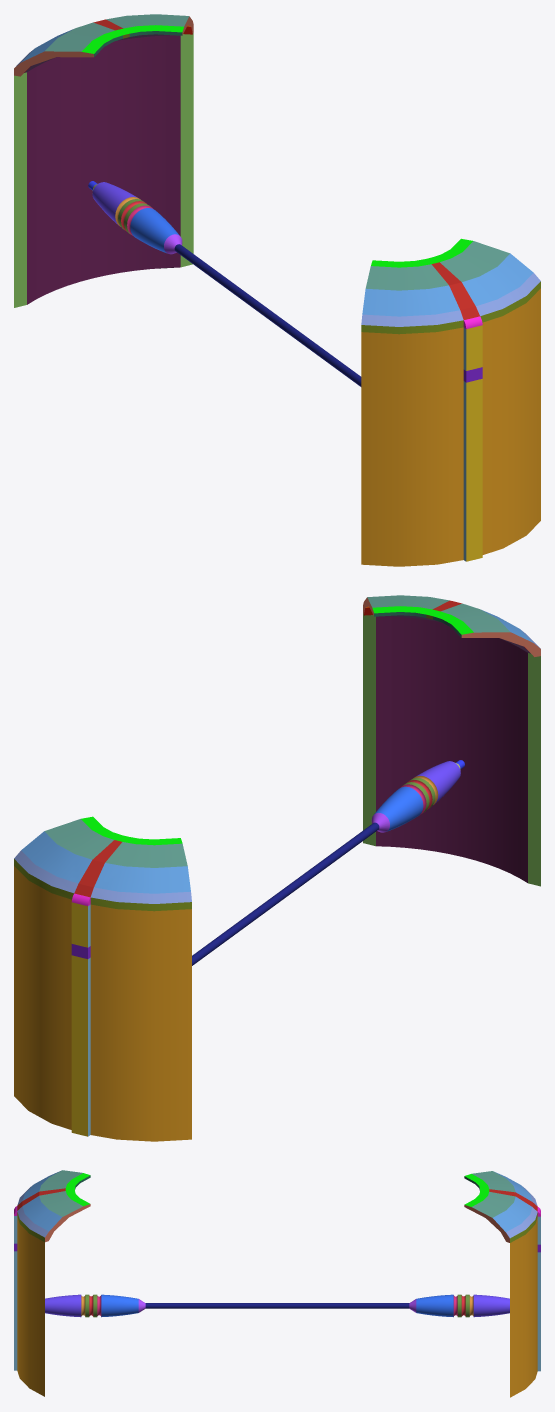
Rendered from iter3barColor.fbx.
3 views of the same model, one above another, from view 1: azimuth 30°, elevation 25°; view 2: azimuth 150°, elevation 25°; view 3: azimuth 270°, elevation 25° (orthographic). The views are drawn at different scales.
Parts seen in each view (by area): view 1: Group1, Group2, Model; view 2: Group2, Group1, Model; view 3: Group2, Group1, Model.
Part boxes in pixels (x1,y1,x2,y2): Group1: (361,238,540,566); Group2: (14,14,193,307); Model: (88,181,361,386); Group2: (14,816,191,1141); Group1: (363,595,540,886); Model: (192,760,464,965); Group2: (464,1171,540,1397); Group1: (14,1170,90,1396); Model: (45,1294,509,1317).
Bounding box in the file's own units: 632 × 889 × 2382.
